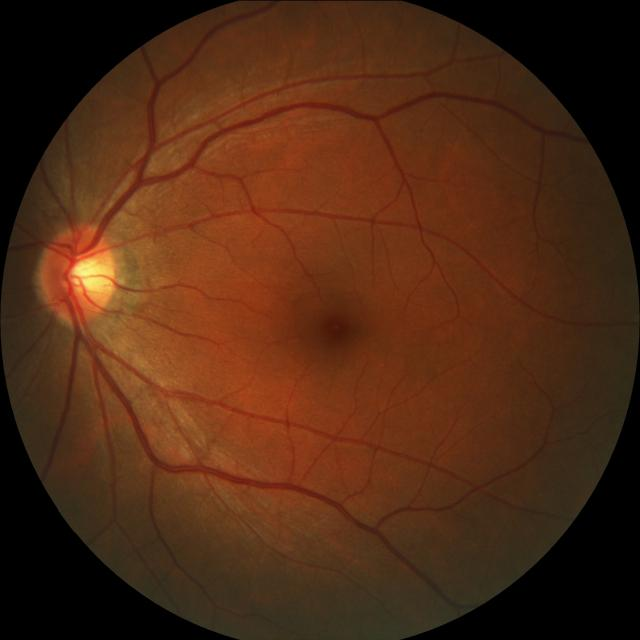OC: (62, 251, 105, 295)
OD: (41, 223, 121, 324)
